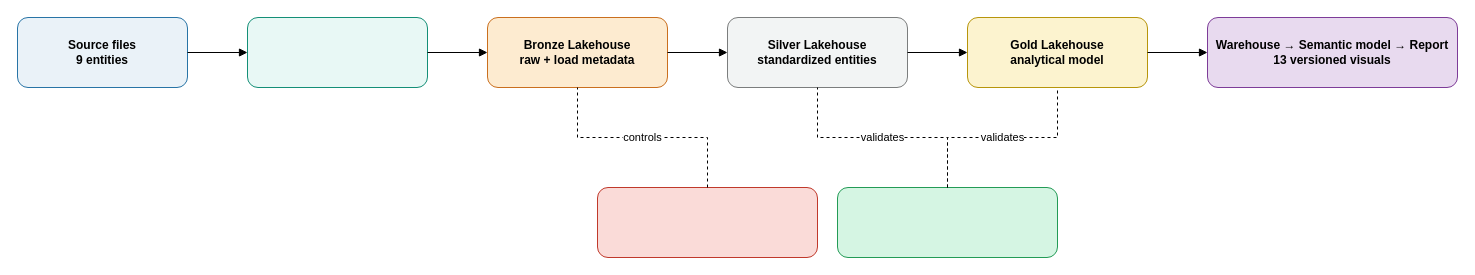
Some shapes in this 1475 by 275 pixel diagram are drawn without their labels. Here are the shapes that lost their labels. From the top down, the centre of each, then its label:
pixel 337 52: Copy Job + ingestion notebooks
pixel 707 222: 5 Data Pipelines orchestrate stages
pixel 947 222: DQ evidence contract + rule IDs
